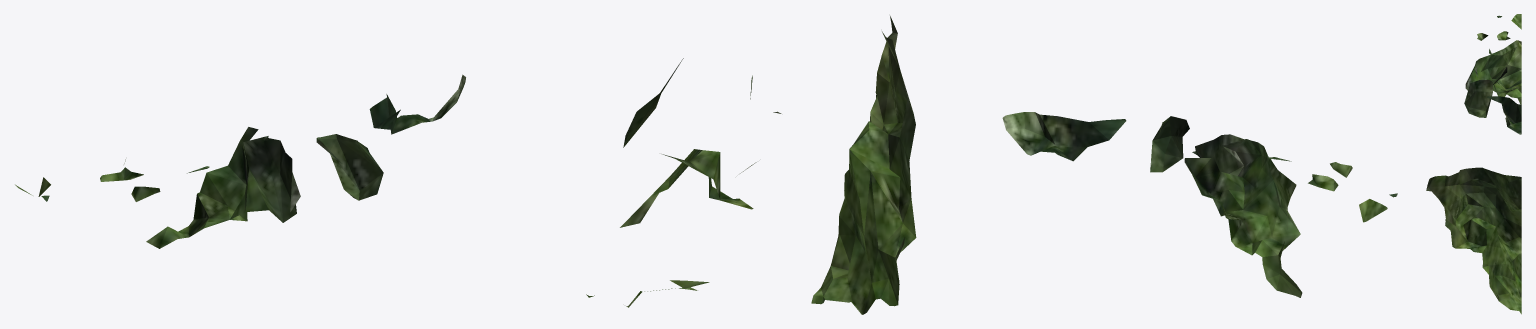
3 views of the same model, side by side, from view 1: azimuth 30°, elevation 25°; view 2: azimuth 150°, elevation 25°; view 3: azimuth 270°, elevation 25° (orthographic). The views are drawn at different scales.
Bounding box in the file's own units: 24.86 × 9.64 × 6.1.
1 material, 1 textured.
